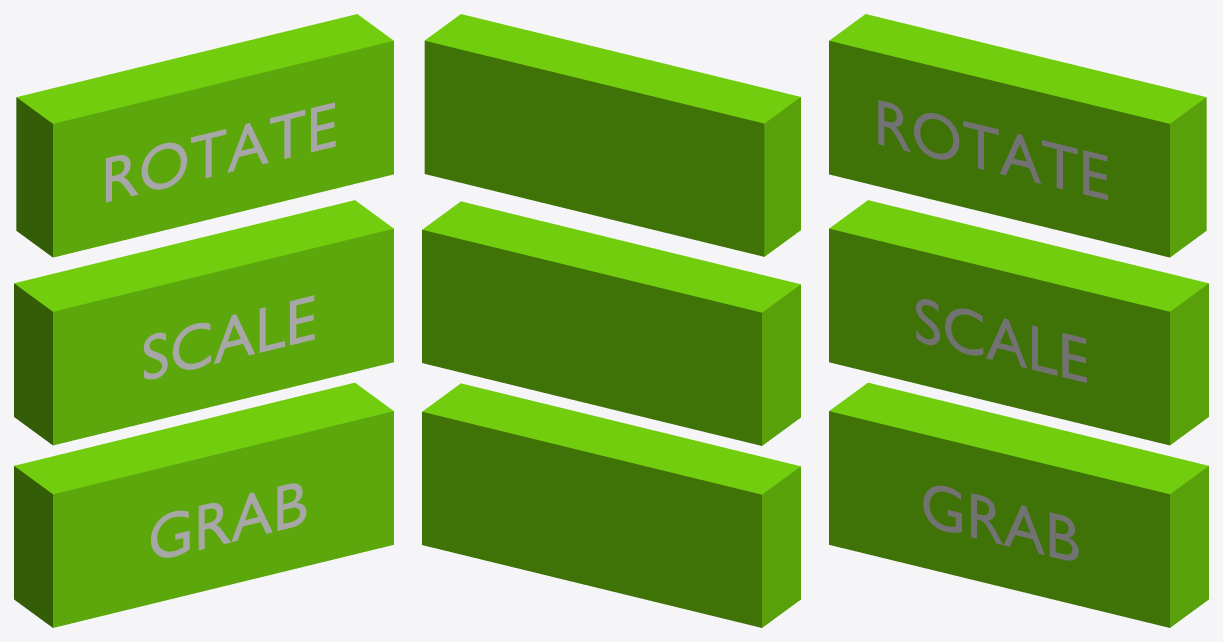
File: button.gltf
3 views of the same model, side by side, from view 1: azimuth 30°, elevation 25°; view 2: azimuth 150°, elevation 25°; view 3: azimuth 330°, elevation 25° (orthographic).
Visible parts, largest first — view 1: Cube.007, Cube.008, Cube, Text, Text.002, Text.001; view 2: Cube.007, Cube.008, Cube; view 3: Cube.007, Cube.008, Cube, Text, Text.002, Text.001.
Boxes of the visible parts, <box> form: Cube.007: <box>14,200,393,445</box>; Cube.008: <box>14,382,393,627</box>; Cube: <box>16,14,393,257</box>; Text: <box>106,102,335,202</box>; Text.002: <box>151,483,306,557</box>; Text.001: <box>143,295,314,379</box>; Cube.007: <box>422,201,800,445</box>; Cube.008: <box>422,383,800,627</box>; Cube: <box>424,14,800,256</box>; Cube.007: <box>829,200,1208,445</box>; Cube.008: <box>829,382,1208,627</box>; Cube: <box>829,14,1206,257</box>; Text: <box>878,100,1107,200</box>; Text.002: <box>923,485,1078,560</box>; Text.001: <box>916,299,1086,382</box>.
Size of the model in its own units: 2 by 2.83 by 0.4146.
